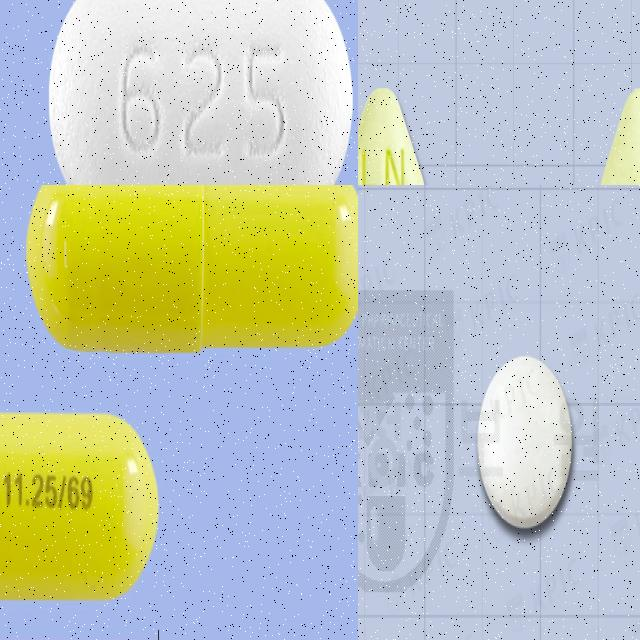Leflu: (358, 84, 426, 185), (600, 86, 640, 185)
Lesacin: (479, 351, 574, 532)
Myungmoon Amoclan Tab: (50, 0, 355, 185)
Qsymia Cap: (27, 185, 358, 357), (0, 400, 162, 605)
